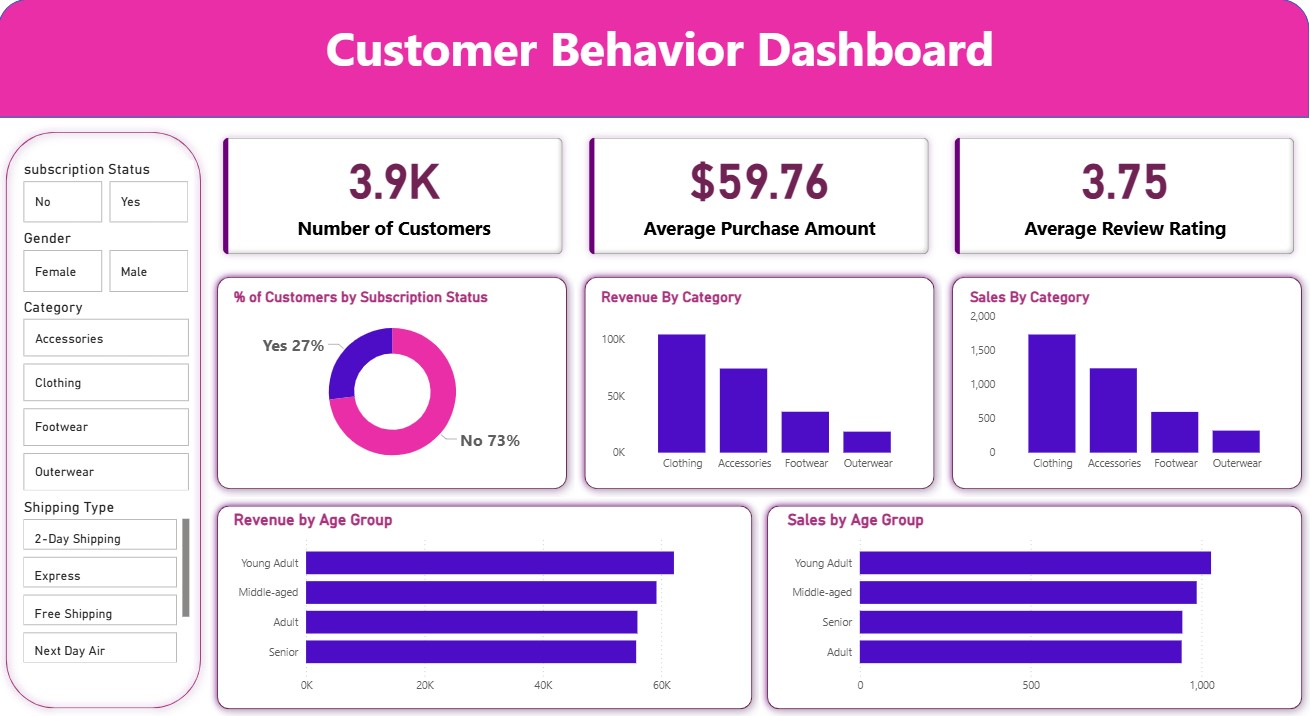

This screenshot's page, from the dashboard's own definition file:
{"tool":"powerbi","page":{"name":"Page 1","canvas":[1500,820],"ordinal":0},"visuals":[{"type":"cardVisual","fields":{"Data":["public customer.Number of Customers","public customer.Average Purchase Amount","public customer.Average Review Rating"]},"box":[240.9,143.4,1259,165.7],"z":0},{"type":"shape","box":[0,0,1498.6,135.7],"z":1000},{"type":"textbox","box":[12.5,13.9,1487.4,82.2],"z":2000},{"type":"shape","box":[240.9,309.2,417.8,260.4],"z":3000},{"type":"donutChart","title":"% of Customers by Subscription  Status","fields":{"Y":["CountNonNull(public customer.customer_id)"],"Category":["public customer.subscription_status"]},"box":[264.6,330.1,373.2,218.6],"z":4000},{"type":"shape","box":[661.5,309.2,417.8,260.4],"z":5000},{"type":"shape","box":[1082.1,309.2,417.8,260.4],"z":6000},{"type":"clusteredColumnChart","title":"Revenue By Category","fields":{"Y":["Sum(public customer.purchase_amount)"],"Category":["public customer.category"]},"box":[683.8,330.1,371.8,218.6],"z":7000},{"type":"clusteredColumnChart","title":"Sales By Category","fields":{"Y":["CountNonNull(public customer.customer_id)"],"Category":["public customer.category"]},"box":[1105.8,330.1,371.8,218.6],"z":7001},{"type":"shape","box":[0,143.4,240.9,676.8],"z":7002},{"type":"advancedSlicerVisual","title":"subscription Status","fields":{"Values":["public customer.subscription_status"]},"box":[23.7,183.8,199.2,76.6],"z":7003},{"type":"advancedSlicerVisual","title":"Gender","fields":{"Values":["public customer.gender"]},"box":[23.7,263.2,199.2,78],"z":7004},{"type":"advancedSlicerVisual","title":"Category","fields":{"Values":["public customer.category"]},"box":[23.7,341.2,199.2,228.4],"z":7005},{"type":"advancedSlicerVisual","title":"Shipping Type","fields":{"Values":["public customer.shipping_type"]},"box":[23.7,569.6,199.2,195],"z":7006},{"type":"shape","box":[240.9,569.6,629.5,250.7],"z":7008},{"type":"clusteredBarChart","title":"Revenue by Age Group","fields":{"Y":["Sum(public customer.purchase_amount)"],"Category":["public customer.age_group"]},"box":[264.6,584.9,576.6,218.6],"z":7009},{"type":"shape","box":[870.4,569.6,629.5,250.7],"z":7010},{"type":"clusteredBarChart","title":"Sales by Age Group","fields":{"Category":["public customer.age_group"],"Y":["CountNonNull(public customer.customer_id)"]},"box":[896.9,584.9,576.6,218.6],"z":7011}]}

Visuals, with their boxes in screenshot pixels (x1, y1, x2, y2), scaled from the page's 1500x820 canvas onto the 1310x716 screenshot:
cardVisual - public customer.Number of Customers x public customer.Average Purchase Amount: [210, 125, 1309, 270]
shape: [0, 0, 1309, 118]
textbox: [11, 12, 1309, 84]
shape: [210, 270, 575, 497]
"% of Customers by Subscription  Status" donutChart: [231, 288, 557, 479]
shape: [578, 270, 943, 497]
shape: [945, 270, 1309, 497]
"Revenue By Category" clusteredColumnChart: [597, 288, 922, 479]
"Sales By Category" clusteredColumnChart: [966, 288, 1290, 479]
shape: [0, 125, 210, 715]
"subscription Status" advancedSlicerVisual: [21, 160, 195, 227]
"Gender" advancedSlicerVisual: [21, 230, 195, 298]
"Category" advancedSlicerVisual: [21, 298, 195, 497]
"Shipping Type" advancedSlicerVisual: [21, 497, 195, 668]
shape: [210, 497, 760, 715]
"Revenue by Age Group" clusteredBarChart: [231, 511, 735, 702]
shape: [760, 497, 1309, 715]
"Sales by Age Group" clusteredBarChart: [783, 511, 1287, 702]
